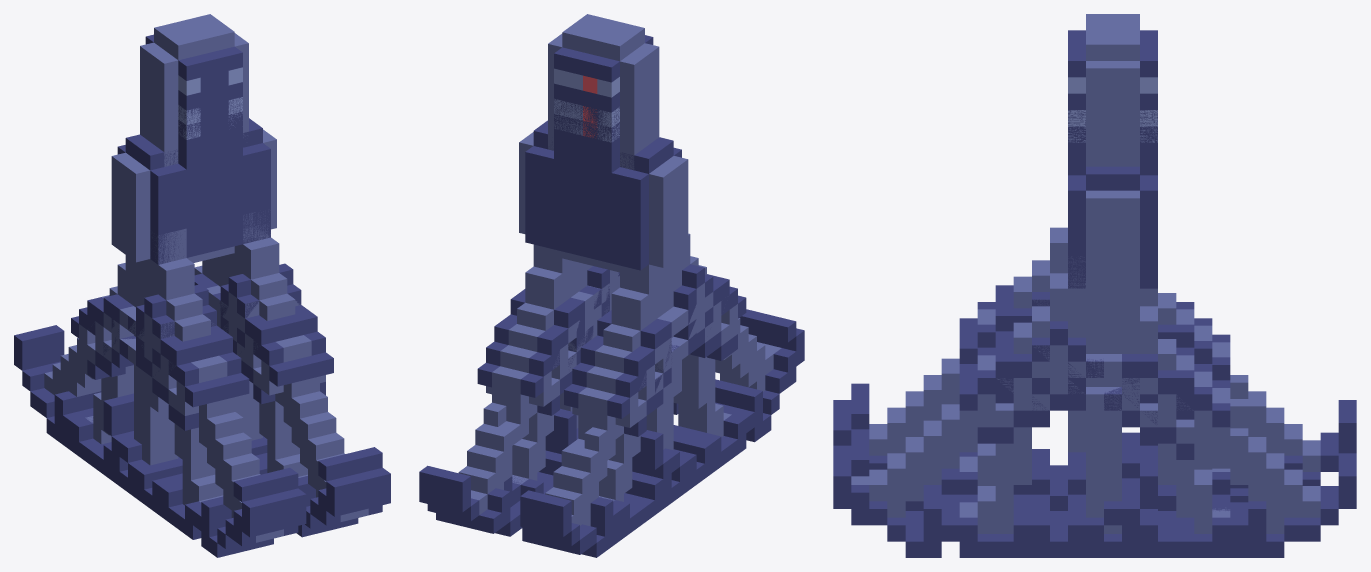
Rendered from walklegs.fbx.
The picture shows the model from 3 angles, left to right: view 1: azimuth 30°, elevation 25°; view 2: azimuth 150°, elevation 25°; view 3: azimuth 270°, elevation 25°; orthographic projection. The views are drawn at different scales.
Visible parts, largest first — view 1: Default_2, Default_4, Default, Default_6, Default_8, Default_5; view 2: Default_2, Default, Default_6, Default_4, Default_5, Default_8, Default_7, Default_3; view 3: Default_2, Default, Default_4, Default_6, Default_5, Default_8.
Part boxes in pixels (box(x1,y1,x2,y2)): Default_2: box(14, 88, 390, 537); Default_4: box(103, 14, 307, 509); Default: box(54, 72, 315, 506); Default_6: box(125, 254, 306, 557); Default_8: box(103, 228, 262, 509); Default_5: box(138, 257, 231, 539); Default_2: box(519, 89, 688, 557); Default: box(525, 74, 688, 539); Default_6: box(419, 252, 804, 536); Default_4: box(519, 14, 721, 508); Default_5: box(503, 244, 762, 507); Default_8: box(519, 233, 720, 481); Default_7: box(525, 182, 662, 254); Default_3: box(663, 189, 688, 241); Default_2: box(833, 121, 1356, 557); Default: box(923, 93, 1248, 557); Default_4: box(1013, 14, 1157, 557); Default_6: box(833, 285, 1356, 557); Default_5: box(941, 259, 1266, 557); Default_8: box(1018, 227, 1157, 557).
Size of the model in its own units: 10 by 30 by 29.
Materials: 8 (8 with a texture image).
